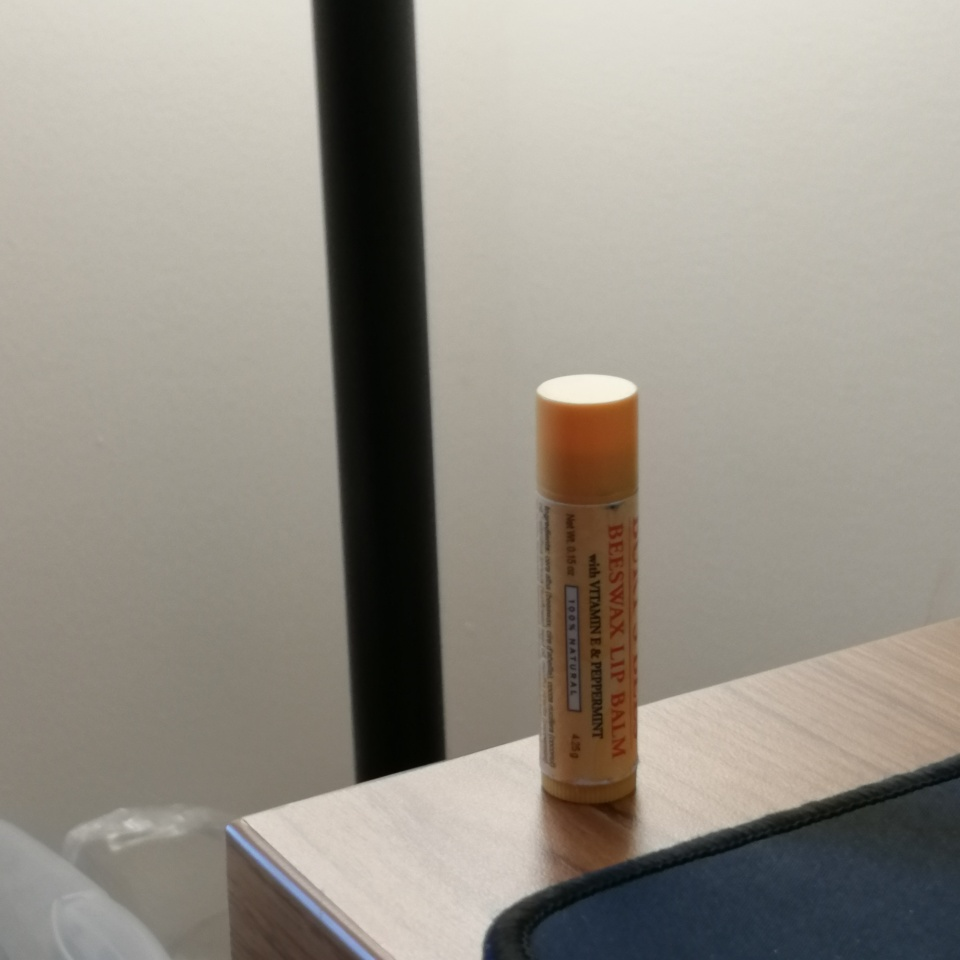chapstick: (537, 374, 640, 801)
